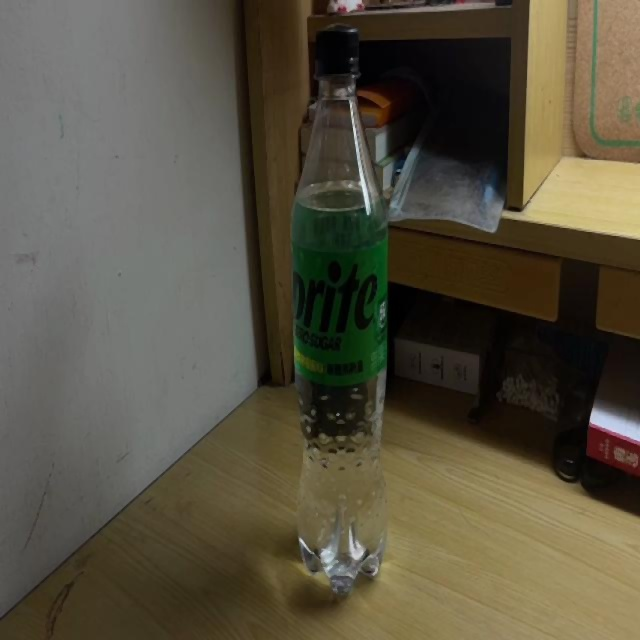Sprite: (292, 28, 389, 596)
